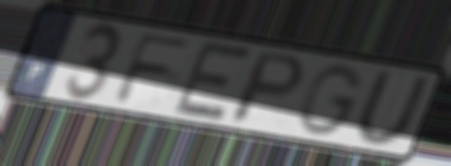3: (61, 19, 125, 105)
E: (168, 38, 257, 124)
F: (110, 30, 198, 105)
G: (294, 62, 367, 138)
P: (225, 49, 311, 127)
U: (353, 69, 433, 150)
